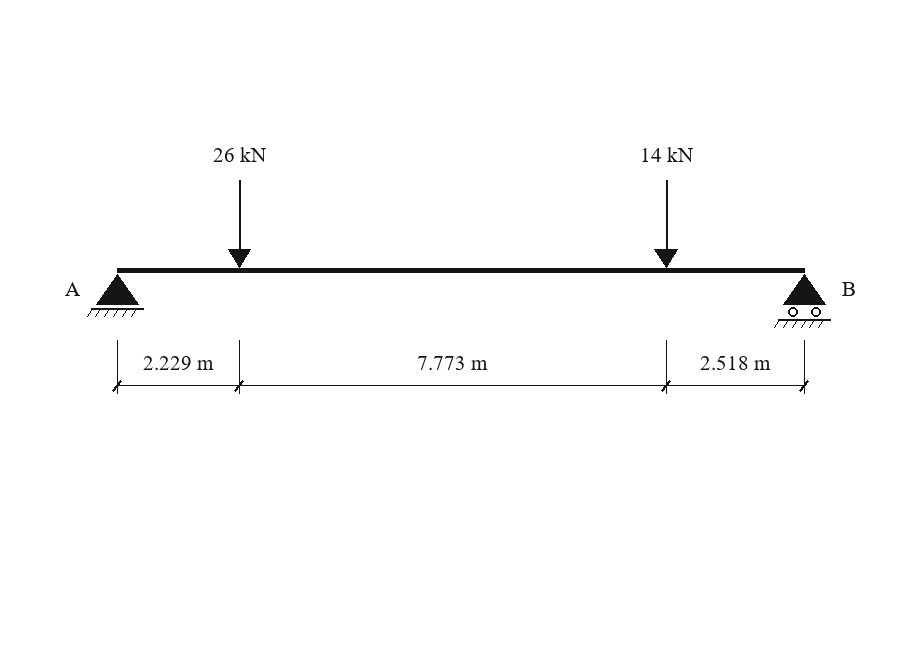pin_support: (87, 274, 144, 317)
point_load: (654, 180, 678, 268), (228, 180, 251, 268)
roller_support: (774, 274, 831, 328)
